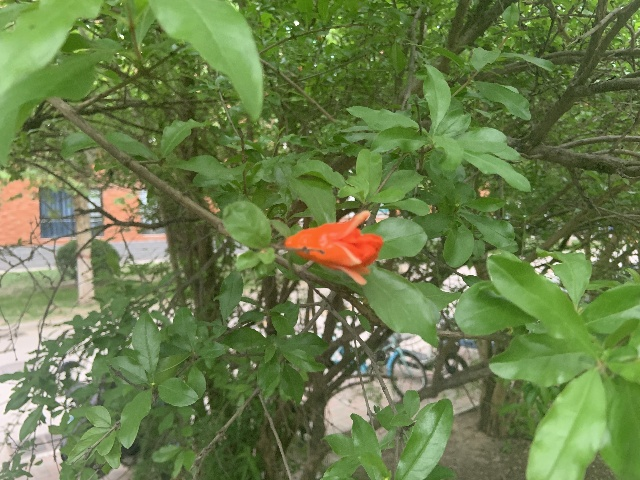flower: (285, 210, 383, 284)
